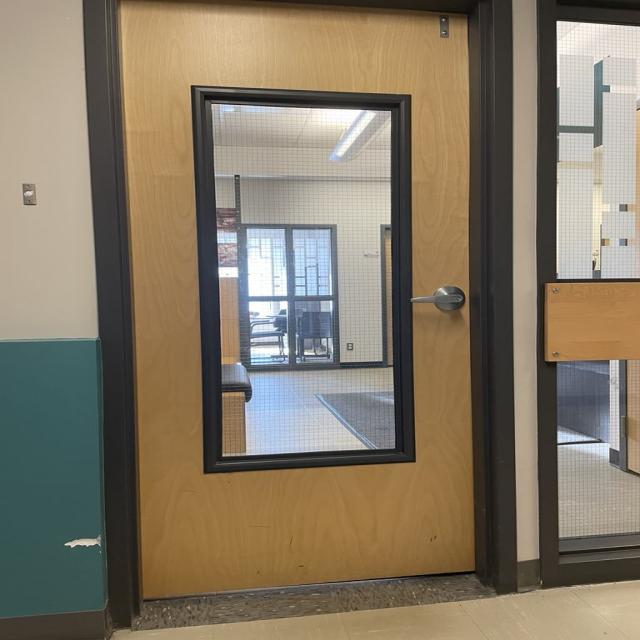door-handle: (412, 285, 465, 310)
